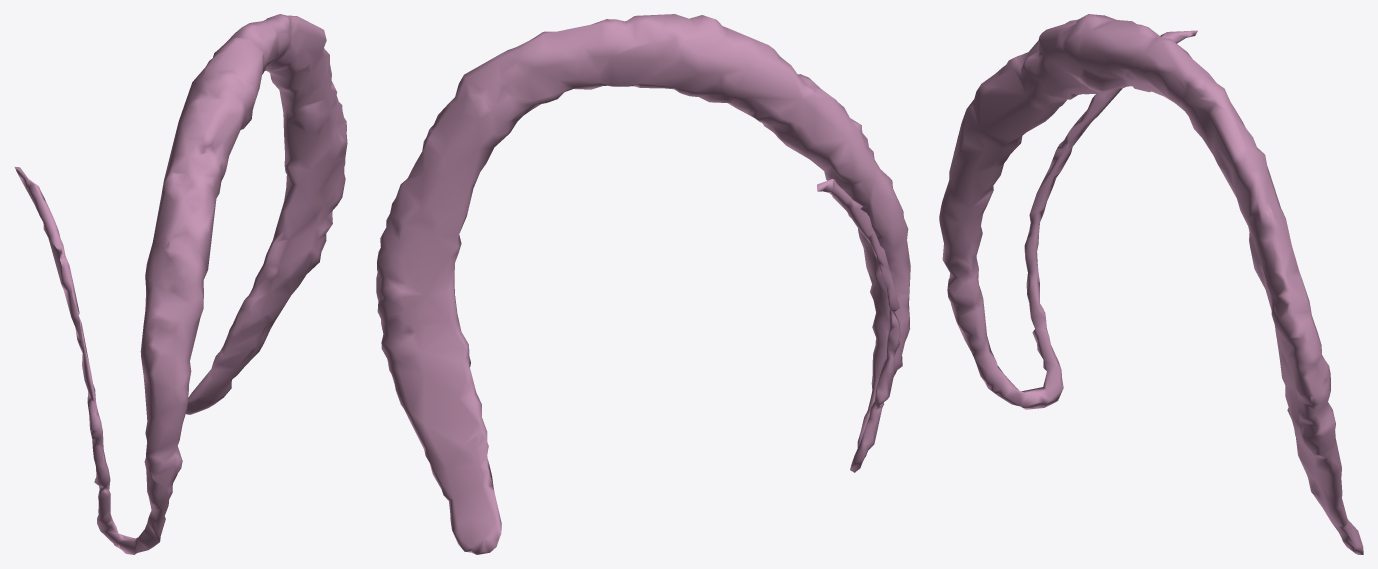
The picture shows the model from 3 angles, left to right: view 1: azimuth 30°, elevation 25°; view 2: azimuth 150°, elevation 25°; view 3: azimuth 270°, elevation 25°; orthographic projection. The views are drawn at different scales.
Parts seen in each view (by area): view 1: 左侧脉络丛; view 2: 左侧脉络丛; view 3: 左侧脉络丛.
Boxes of the visible parts, box(x1,y1,x2,y2) form: 左侧脉络丛: box(14, 14, 347, 554); 左侧脉络丛: box(376, 14, 910, 554); 左侧脉络丛: box(939, 14, 1363, 554).
Bounding box in the file's own units: 0.0535 × 0.062 × 0.0484.
